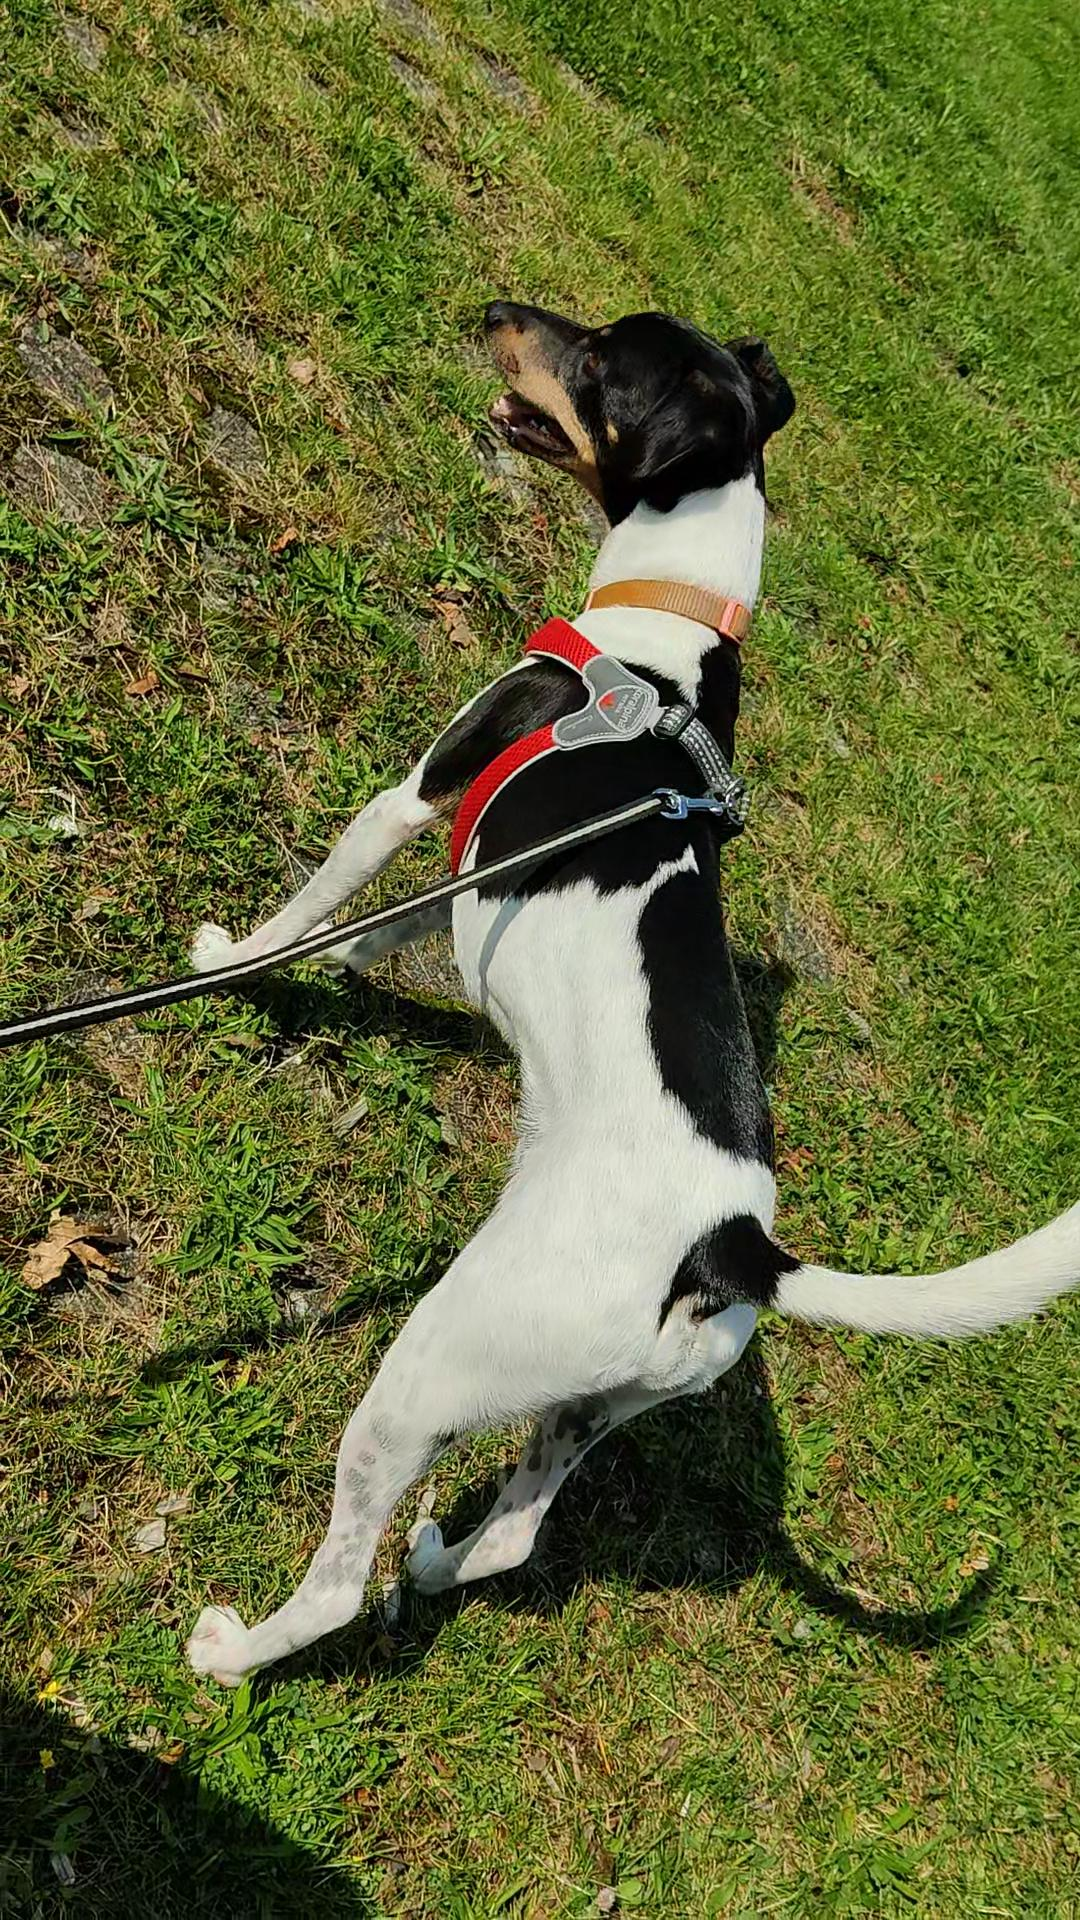Dog: (156, 276, 1079, 1696)
